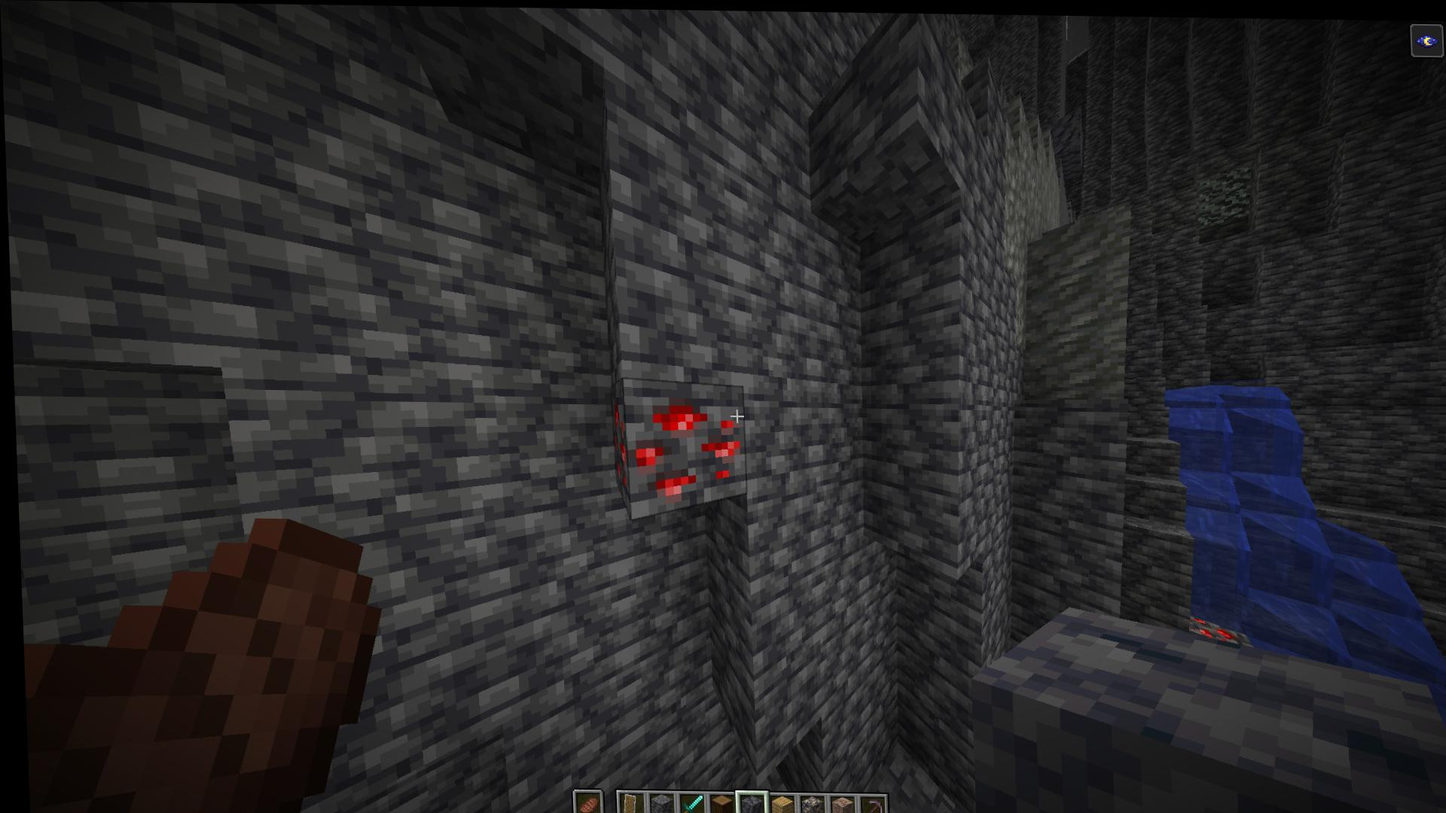iron ore: (1182, 614, 1239, 641)
redstone ore: (625, 384, 744, 501)
